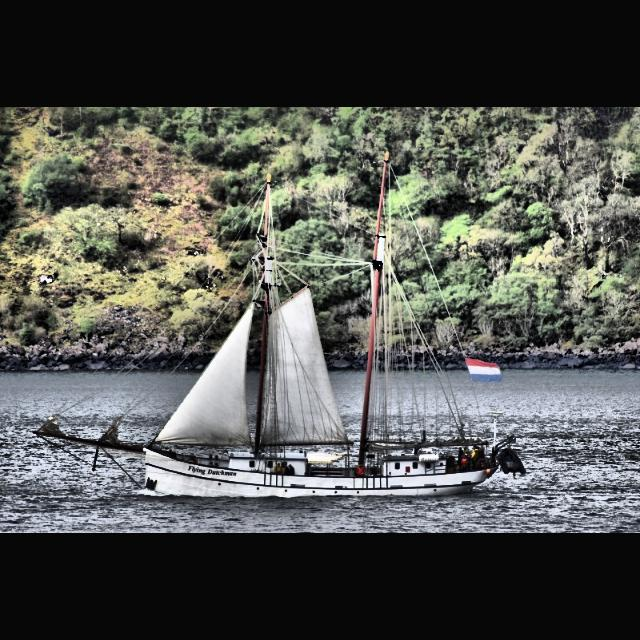sailing_vessel: (34, 152, 526, 500)
